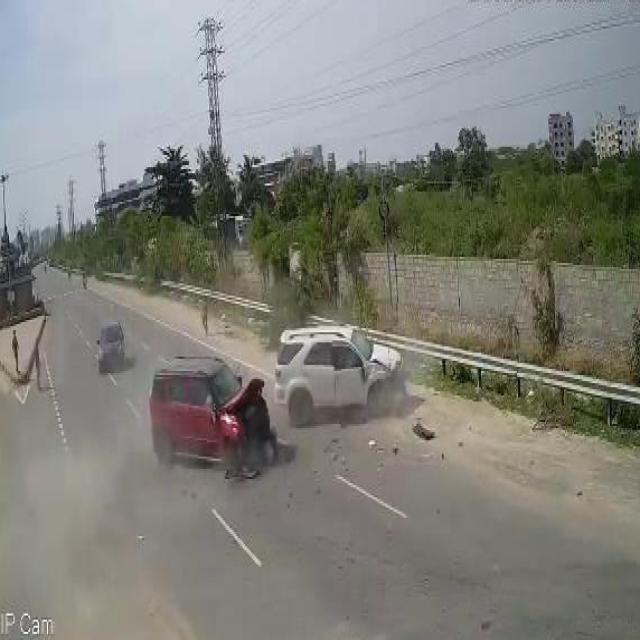accident: (143, 312, 413, 488)
